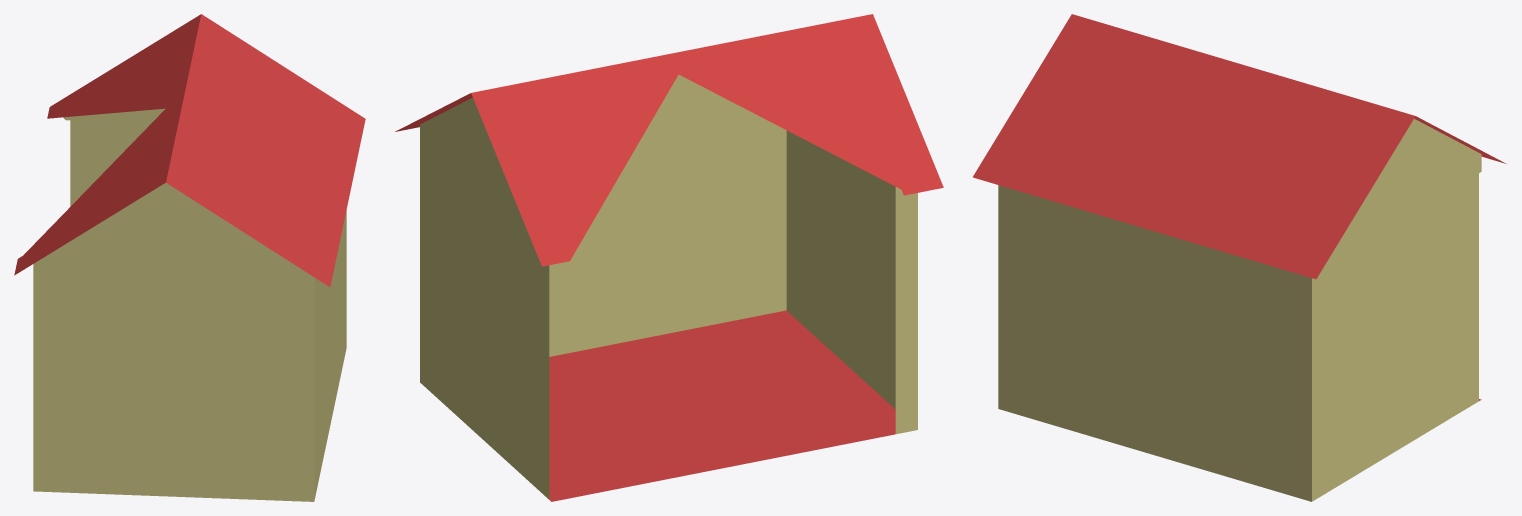
3 views of the same model, side by side, from view 1: azimuth 30°, elevation 25°; view 2: azimuth 150°, elevation 25°; view 3: azimuth 270°, elevation 25° (orthographic). The views are drawn at different scales.
Size of the model in its own units: 13.92 by 14.5 by 10.08.
